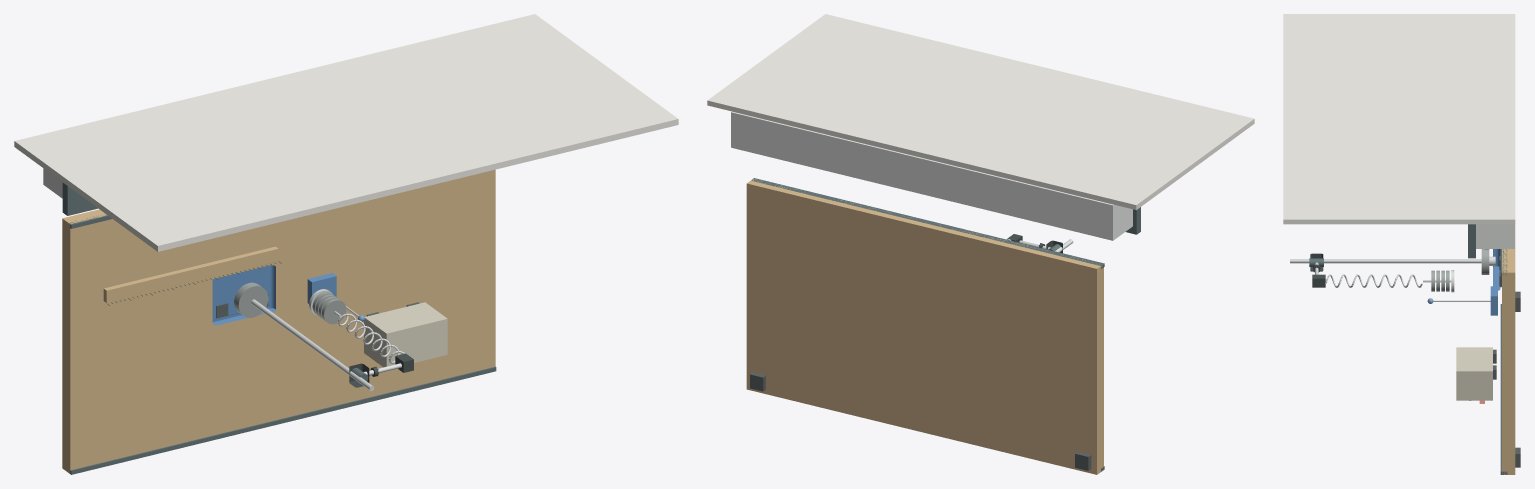
Rendered from rp07-spring.glb.
The picture shows the model from 3 angles, left to right: view 1: azimuth 30°, elevation 25°; view 2: azimuth 150°, elevation 25°; view 3: azimuth 270°, elevation 25°; orthographic projection. The views are drawn at different scales.
Visible parts, largest first — view 1: Laboratory background wall, Laboratory bench laminate, Stop clock grey case, Metre rule, Laboratory bench dark edge, Spring stand blue base, Spring stand vertical rod, Stand counterweight; view 2: Laboratory bench laminate, Laboratory background wall, Laboratory background cabinet carcass, Laboratory bench rear edge; view 3: Laboratory background wall, Laboratory bench laminate, Stop clock grey case, Laboratory background cabinet carcass, Spring stand vertical rod, Laboratory bench dark edge, Laboratory background worktop, Spring stand blue base.
Boxes of the visible parts, x1,y1,x2,y2 form: Laboratory background wall: (14, 14, 678, 251); Laboratory bench laminate: (62, 169, 495, 473); Stop clock grey case: (364, 302, 447, 367); Metre rule: (103, 246, 278, 302); Laboratory bench dark edge: (70, 366, 496, 474); Spring stand blue base: (212, 265, 275, 325); Spring stand vertical rod: (251, 299, 374, 391); Stand counterweight: (234, 282, 268, 317); Laboratory bench laminate: (746, 179, 1103, 474); Laboratory background wall: (707, 14, 1254, 209); Laboratory background cabinet carcass: (731, 111, 1132, 240); Laboratory bench rear edge: (751, 178, 1104, 268); Laboratory background wall: (1283, 14, 1515, 224); Laboratory bench laminate: (1502, 224, 1515, 474); Stop clock grey case: (1456, 347, 1492, 400); Laboratory background cabinet carcass: (1476, 224, 1514, 248); Spring stand vertical rod: (1290, 259, 1481, 263); Laboratory bench dark edge: (1500, 304, 1507, 474); Laboratory background worktop: (1468, 224, 1475, 258); Spring stand blue base: (1493, 249, 1500, 290).
Bounding box in the file's own units: 10.9 × 6.78 × 5.32.
